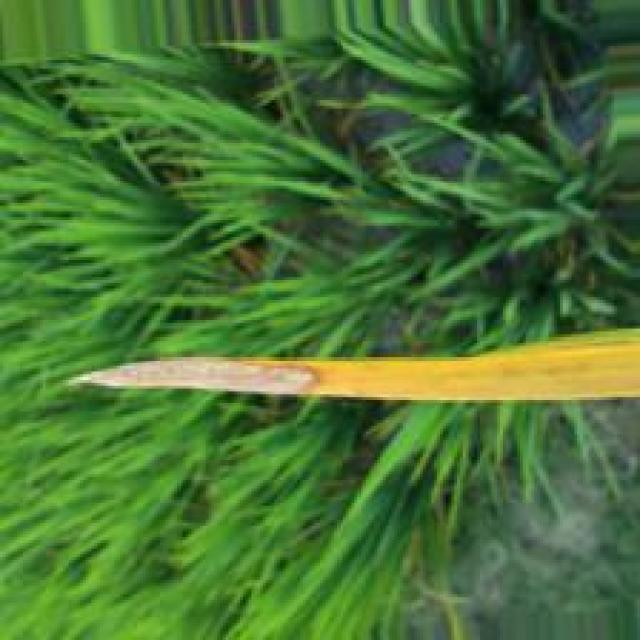Leaf_Scald: (73, 344, 640, 405)
